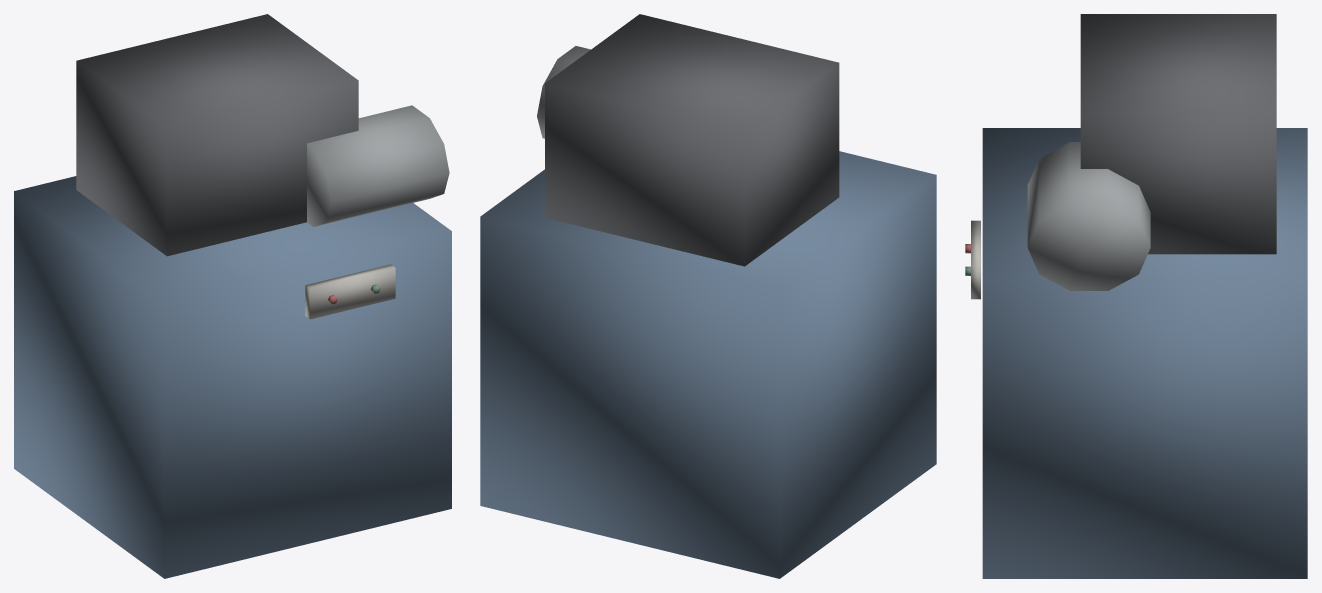
File: library_cart__deep.glb
3 renders of one model, left to right at view 1: azimuth 30°, elevation 25°; view 2: azimuth 150°, elevation 25°; view 3: azimuth 270°, elevation 25°, orthographic. The views are drawn at different scales.
Visible parts, largest first — view 1: world; view 2: world; view 3: world.
Part boxes in pixels (left/top/right/bottom): world: left=14, top=14, right=451, bottom=578; world: left=480, top=14, right=936, bottom=578; world: left=965, top=14, right=1307, bottom=578.
Size of the model in its own units: 0.83 by 1.05 by 0.7454.
